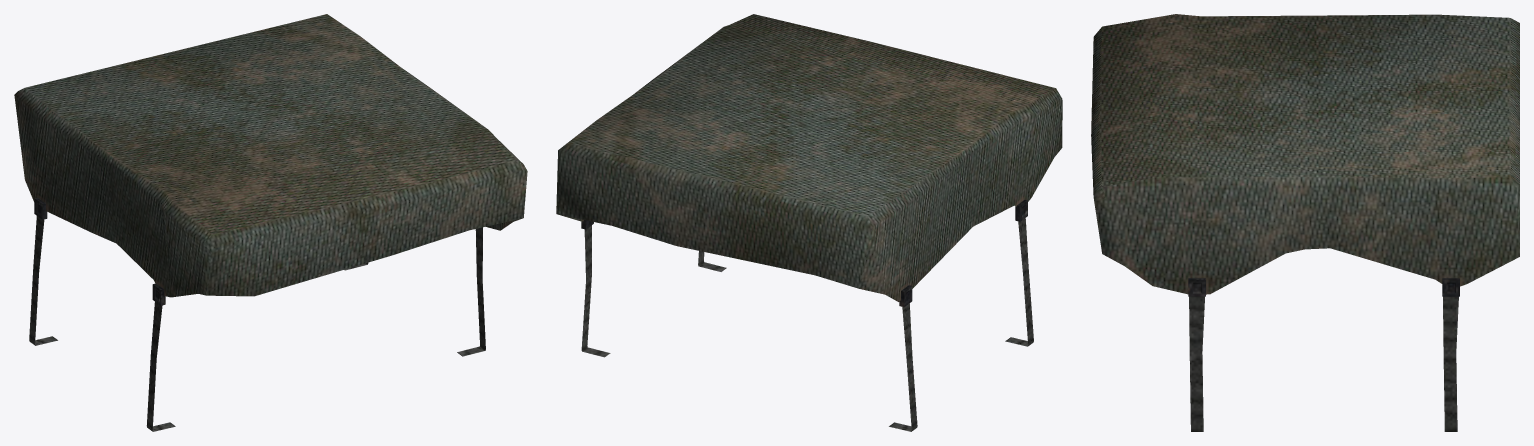
File: CrateTop_L.FBX
3 views of the same model, side by side, from view 1: azimuth 30°, elevation 25°; view 2: azimuth 150°, elevation 25°; view 3: azimuth 270°, elevation 25° (orthographic). The views are drawn at different scales.
Parts seen in each view (by area): view 1: CrateTop_L; view 2: CrateTop_L; view 3: CrateTop_L.
Boxes of the visible parts, left/top/right/bottom form: CrateTop_L: left=14, top=14, right=527, bottom=431; CrateTop_L: left=556, top=14, right=1062, bottom=431; CrateTop_L: left=1091, top=14, right=1519, bottom=431.
Bounding box in the file's own units: 133 × 88.87 × 138.
